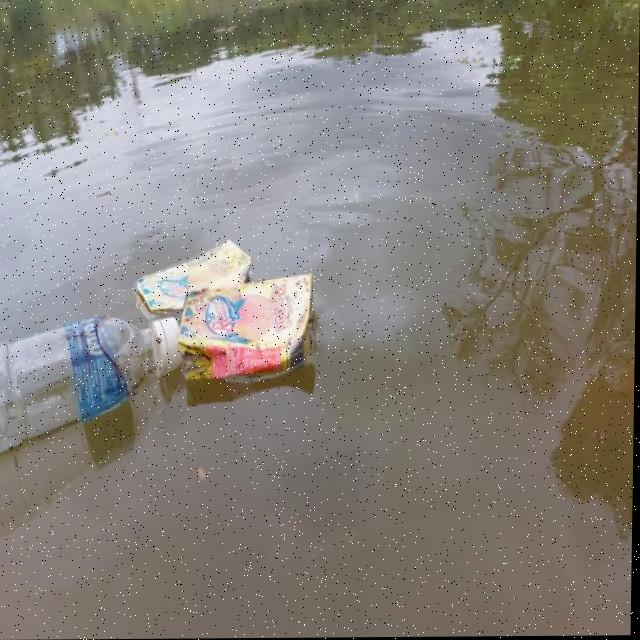paper: (164, 260, 332, 390), (123, 225, 275, 310)
waterbottle: (0, 300, 180, 464)
